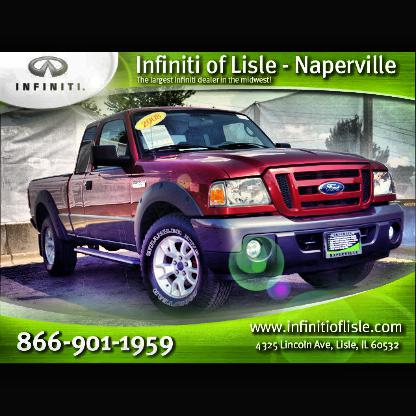Ford Ranger SuperCab 2011: (27, 106, 409, 319)
